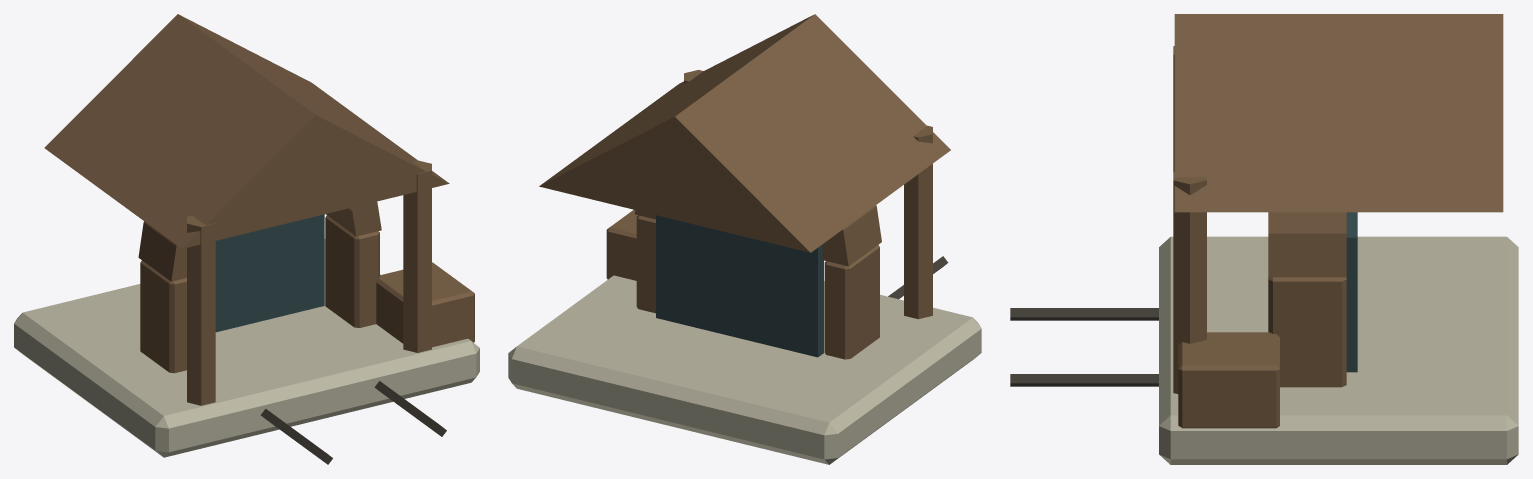
File: mine.glb
3 renders of one model, left to right at view 1: azimuth 30°, elevation 25°; view 2: azimuth 150°, elevation 25°; view 3: azimuth 270°, elevation 25°, orthographic. The views are drawn at different scales.
Parts seen in each view (by area): view 1: Pitched roof, Cube, Cube.003, Tapered form, Tapered form.001, Cube.002, Cube.004, Cube.001, Arch voussoir.009, Arch voussoir, Tapered form.002, Tapered form.003; view 2: Pitched roof, Cube, Cube.003, Cube.001, Tapered form, Arch voussoir.009, Cube.002, Cube.004; view 3: Pitched roof, Cube, Cube.004, Cube.002, Tapered form.001, Arch voussoir, Tapered form.002, Tapered form.003, Cube.003, Arch voussoir.001.
Part boxes in pixels (bbox=[...]): Pitched roof: bbox=[44, 14, 449, 248]; Cube: bbox=[14, 239, 479, 457]; Cube.003: bbox=[215, 214, 324, 332]; Tapered form: bbox=[187, 215, 215, 405]; Tapered form.001: bbox=[403, 160, 431, 352]; Cube.002: bbox=[325, 215, 379, 327]; Cube.004: bbox=[376, 262, 474, 347]; Cube.001: bbox=[140, 260, 186, 373]; Arch voussoir.009: bbox=[138, 223, 186, 281]; Arch voussoir: bbox=[326, 201, 381, 236]; Tapered form.002: bbox=[261, 408, 332, 464]; Tapered form.003: bbox=[374, 381, 446, 436]; Pitched roof: bbox=[539, 14, 950, 252]; Cube: bbox=[508, 275, 981, 464]; Cube.003: bbox=[656, 215, 823, 357]; Cube.001: bbox=[824, 245, 879, 359]; Tapered form: bbox=[904, 125, 932, 319]; Arch voussoir.009: bbox=[822, 206, 881, 266]; Cube.002: bbox=[636, 215, 655, 313]; Cube.004: bbox=[606, 210, 637, 280]; Pitched roof: bbox=[1174, 14, 1503, 212]; Cube: bbox=[1159, 236, 1518, 464]; Cube.004: bbox=[1178, 332, 1279, 428]; Cube.002: bbox=[1268, 277, 1346, 387]; Tapered form.001: bbox=[1173, 171, 1206, 393]; Arch voussoir: bbox=[1268, 233, 1346, 277]; Tapered form.002: bbox=[1010, 308, 1158, 320]; Tapered form.003: bbox=[1010, 374, 1158, 386]; Cube.003: bbox=[1346, 212, 1357, 372]; Arch voussoir.001: bbox=[1268, 212, 1346, 233].
Bounding box in the file's own units: 0.57 × 0.51 × 0.65.
